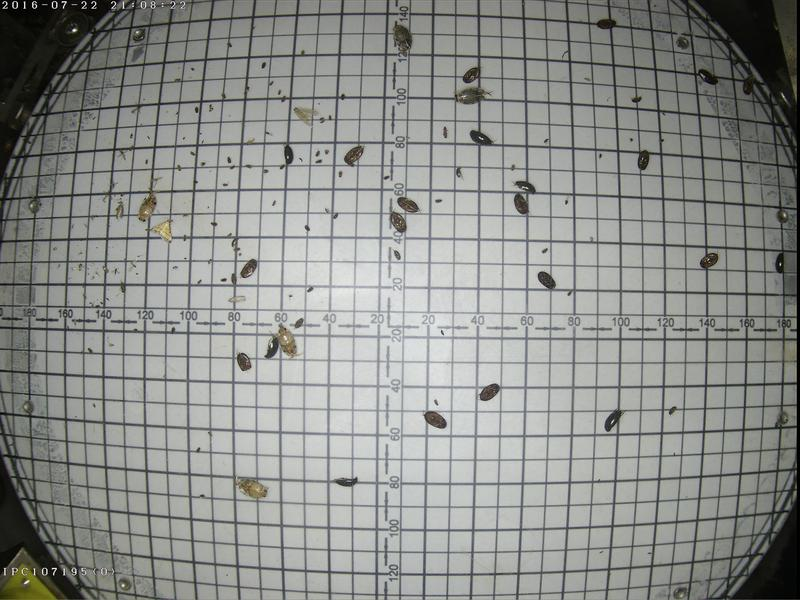Rice Leaf Roller: (149, 212, 173, 243)
